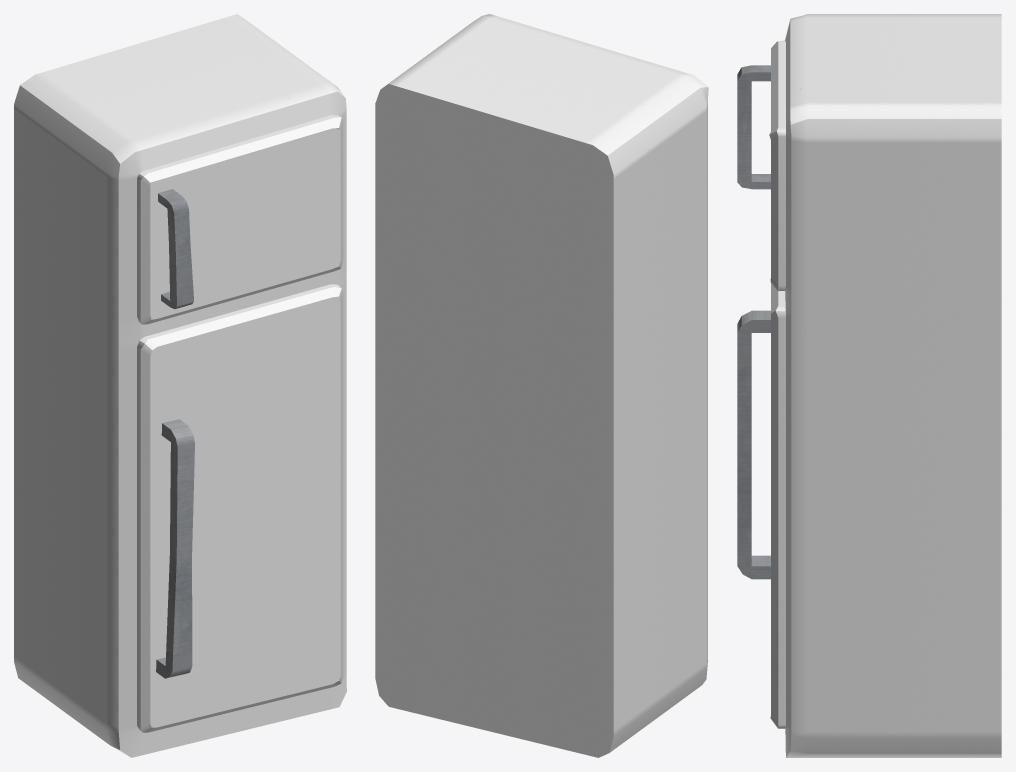
File: Fridge.fbx
3 views of the same model, side by side, from view 1: azimuth 30°, elevation 25°; view 2: azimuth 150°, elevation 25°; view 3: azimuth 270°, elevation 25° (orthographic). The views are drawn at different scales.
Visible parts, largest first — view 1: fridge:FRIDGE; view 2: fridge:FRIDGE; view 3: fridge:FRIDGE.
Boxes of the visible parts, box(x1,y1,x2,y2) form: fridge:FRIDGE: box(14, 14, 346, 757); fridge:FRIDGE: box(375, 14, 708, 757); fridge:FRIDGE: box(737, 14, 1001, 757).
Bounding box in the file's own units: 8 × 19.98 × 7.36.
